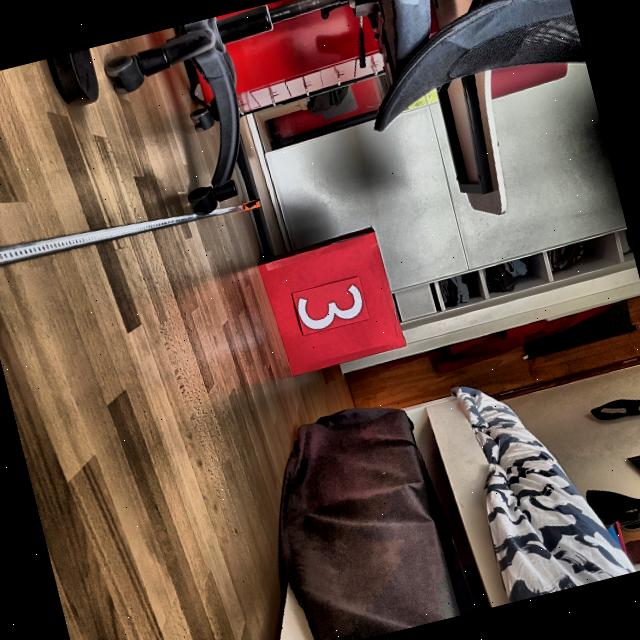red box: (255, 225, 410, 378)
three: (293, 279, 368, 335)
